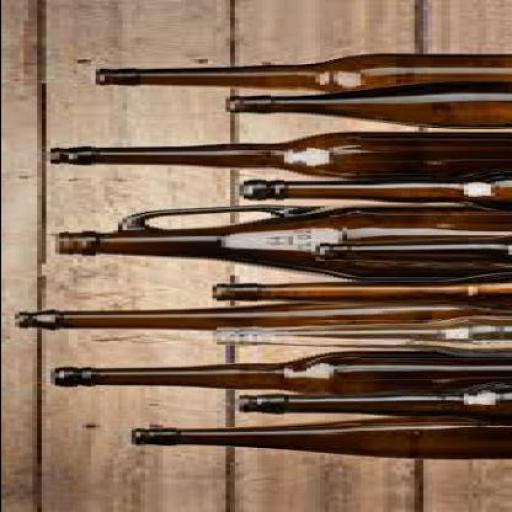glass: (54, 204, 507, 281), (40, 132, 508, 180), (45, 351, 508, 396), (9, 301, 508, 333), (94, 54, 508, 92), (126, 419, 508, 460), (224, 82, 508, 130), (207, 316, 507, 358), (229, 383, 507, 426), (207, 275, 507, 312), (238, 172, 508, 212), (310, 234, 507, 269)
